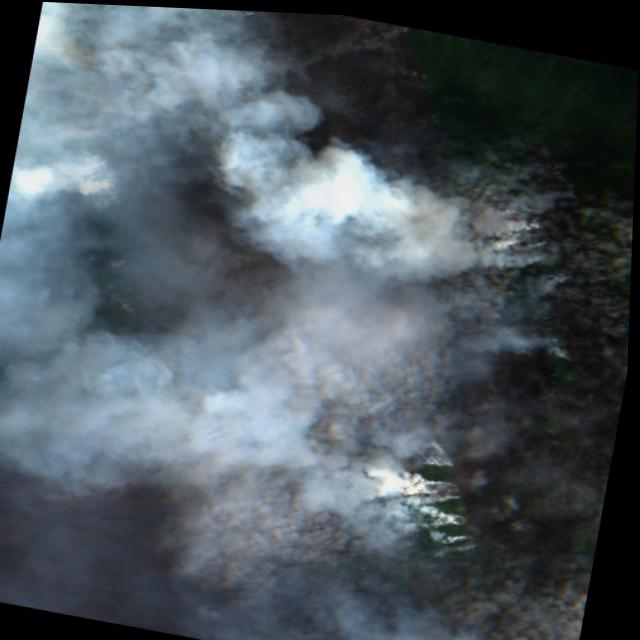fire: (410, 439, 503, 559), (524, 131, 596, 206), (504, 191, 566, 267), (401, 60, 445, 94), (550, 328, 585, 361), (390, 21, 412, 38)
